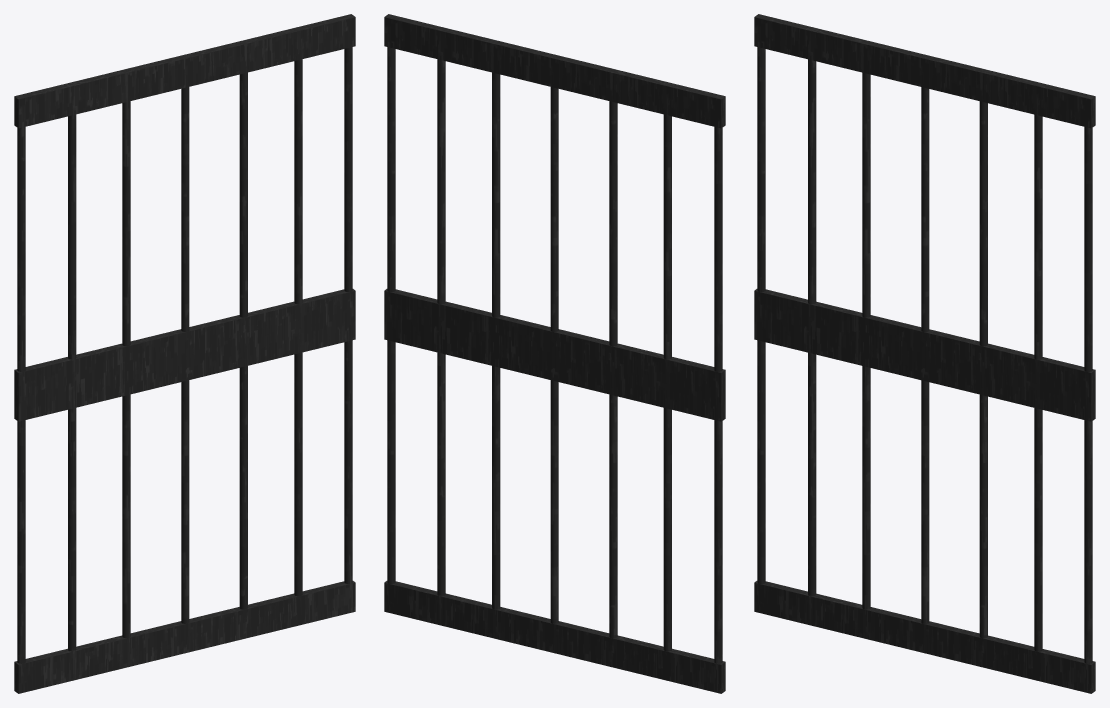
File: CellDoor2.fbx
3 renders of one model, left to right at view 1: azimuth 30°, elevation 25°; view 2: azimuth 150°, elevation 25°; view 3: azimuth 330°, elevation 25°, orthographic.
Visible parts, largest first — view 1: CellDoor; view 2: CellDoor; view 3: CellDoor.
Part boxes in pixels (x1=…): CellDoor: x1=14, y1=14, x2=355, y2=693; CellDoor: x1=384, y1=14, x2=725, y2=693; CellDoor: x1=754, y1=14, x2=1095, y2=693.
Size of the model in its own units: 201 by 4.5 by 339.
1 material, 1 textured.
